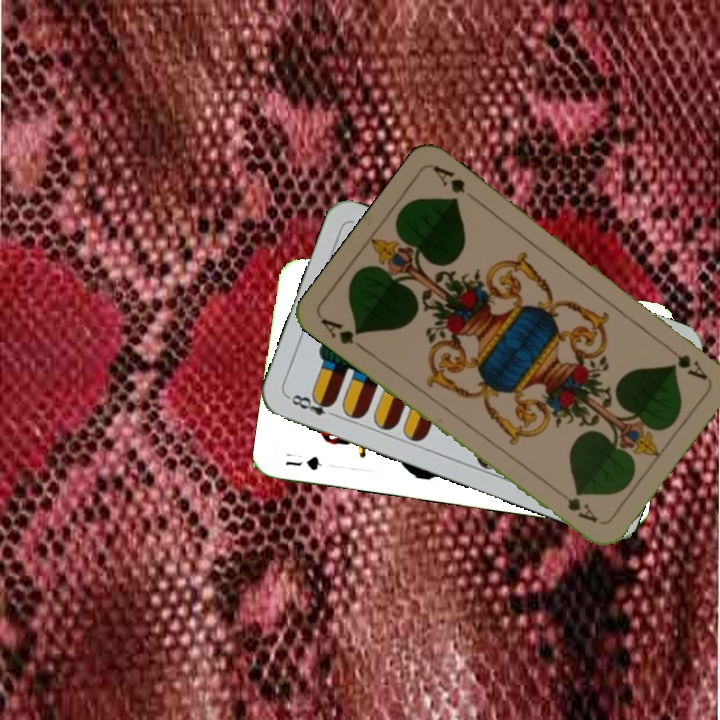E8: (284, 390, 341, 421)
GA: (660, 340, 710, 382), (317, 314, 368, 354)
GU: (281, 452, 325, 473)
